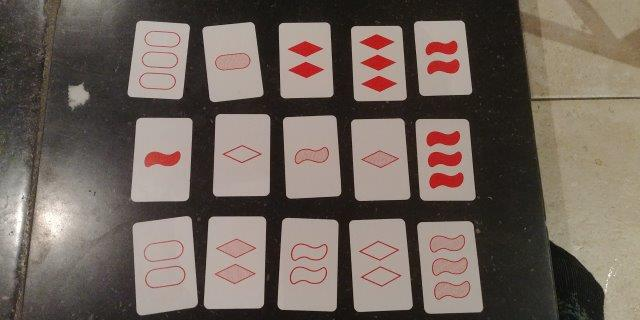1ED: (217, 117, 266, 193)
1FW: (137, 120, 188, 199)
1HD: (357, 120, 402, 197)
1HP: (210, 27, 253, 96)
1HW: (287, 118, 336, 194)
2ED: (355, 223, 404, 307)
2EP: (137, 223, 191, 307)
2EW: (283, 222, 334, 307)
2FD: (280, 23, 327, 96)
2FW: (420, 23, 464, 94)
2HD: (211, 219, 260, 304)
3EP: (136, 25, 181, 95)
3FD: (356, 28, 400, 98)
3FW: (421, 122, 468, 197)
3HW: (424, 225, 473, 310)
